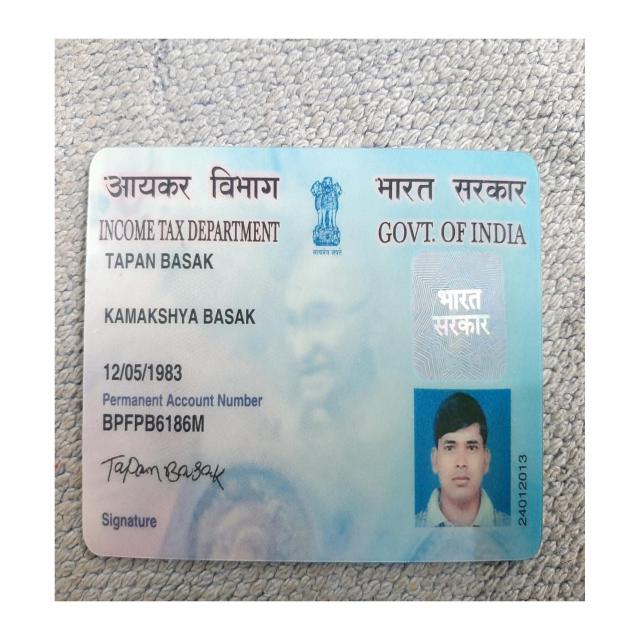pan_card: (82, 154, 539, 555)
